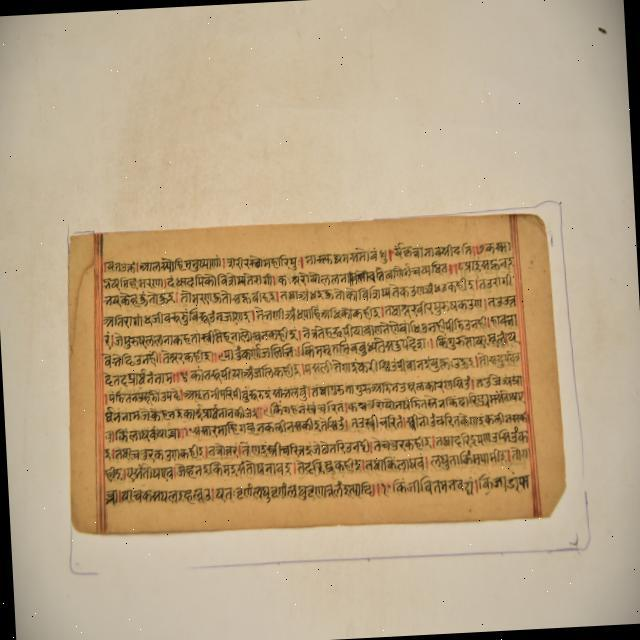text_paragraph: (66, 214, 564, 531)
